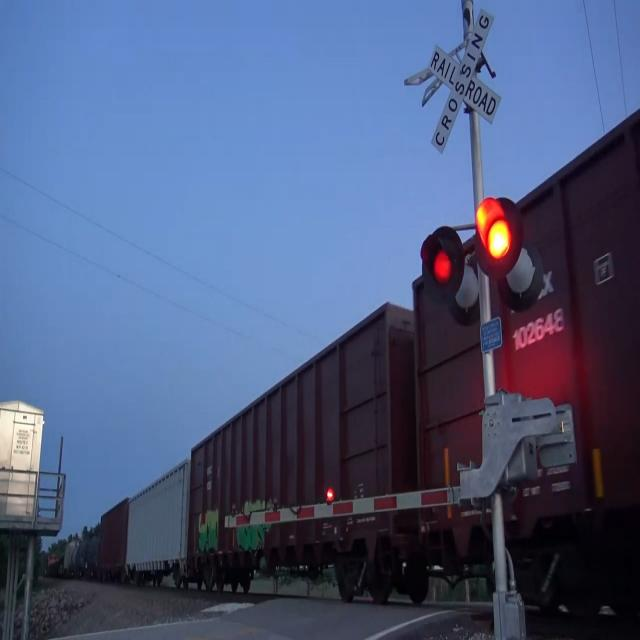gondola: (403, 101, 640, 624), (178, 291, 416, 618)
